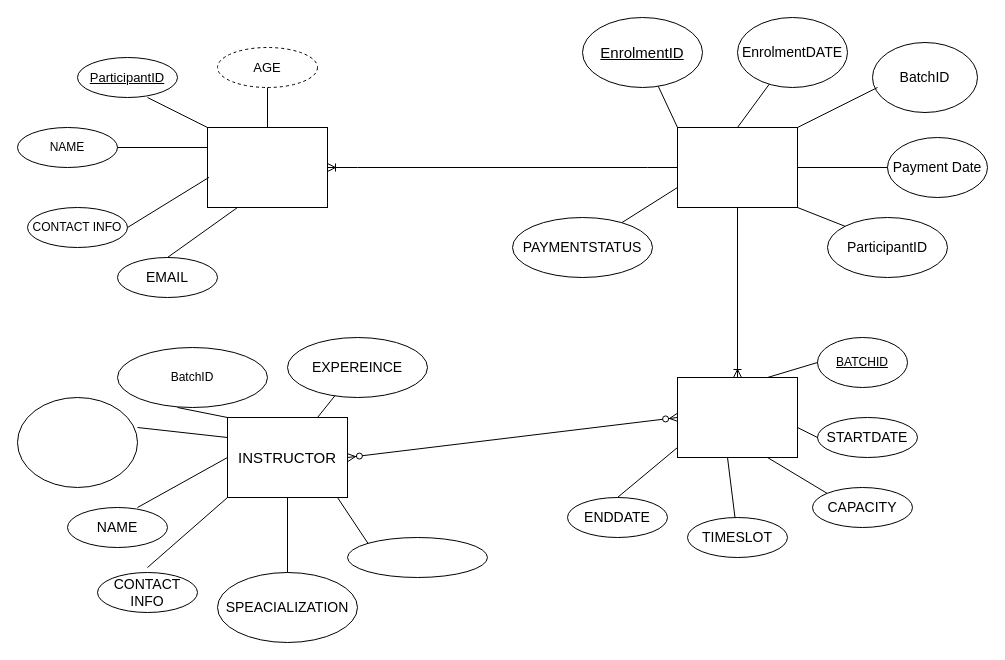
This 1005x660 diagram has some shape labels left out. Each missing label, with the box of its shape:
BATCH: (676, 376, 798, 458)
CERTIFICATIONS: (346, 536, 488, 578)
ENROLLMENT: (676, 126, 798, 208)
InstructorID: (16, 396, 138, 488)
PARTICIPANT: (206, 126, 328, 208)
